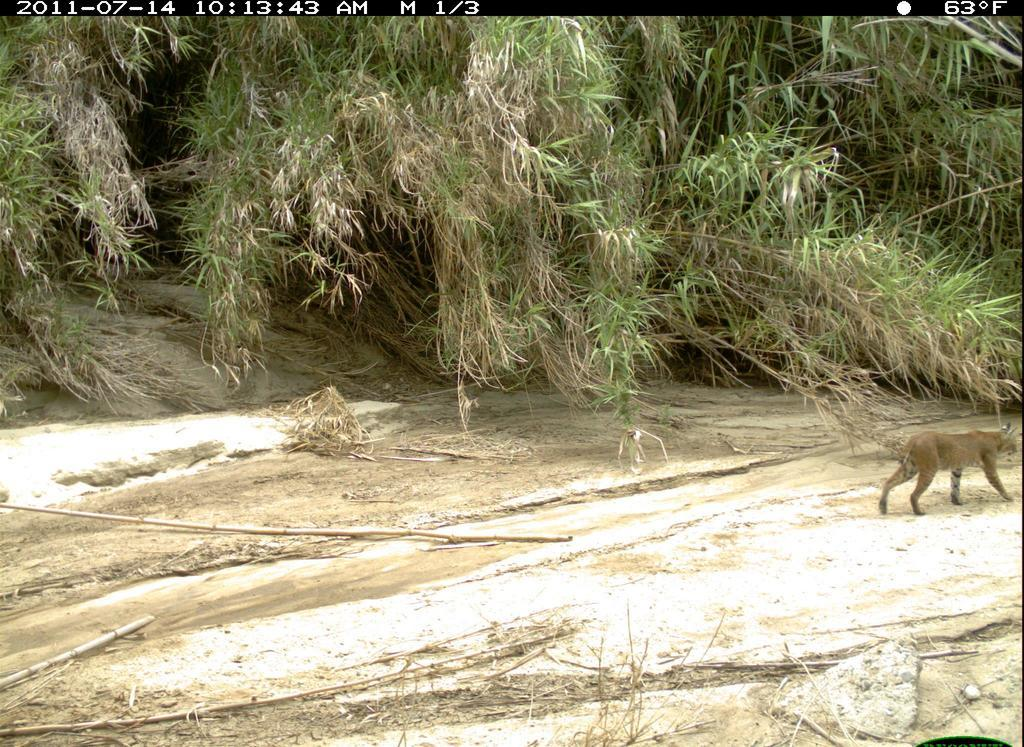bobcat: (866, 409, 1023, 529)
